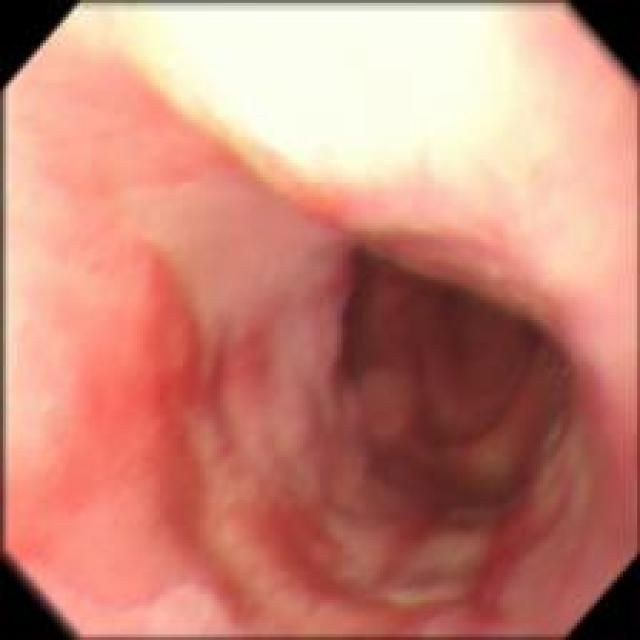blur: (0, 1, 638, 639), (5, 245, 272, 628), (104, 179, 344, 398)
contrast: (345, 248, 582, 481)
saturation: (80, 1, 546, 196)
